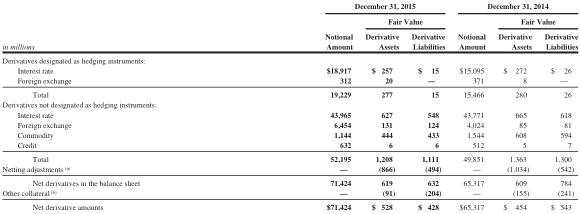table: (1, 1, 577, 210)
table column: (1, 1, 231, 210), (231, 1, 358, 210), (358, 1, 404, 210), (404, 1, 450, 210), (491, 1, 537, 210), (450, 1, 491, 210), (537, 1, 577, 210)
table column header: (1, 1, 577, 52)
table projected row header: (1, 52, 577, 64), (1, 99, 577, 109)
table row: (1, 28, 577, 52), (1, 13, 577, 28), (1, 86, 577, 99), (1, 1, 577, 13), (1, 52, 577, 64), (1, 74, 577, 86), (1, 139, 577, 151), (1, 151, 577, 163), (1, 163, 577, 175), (1, 175, 577, 187), (1, 187, 577, 199), (1, 199, 577, 210), (1, 64, 577, 74), (1, 99, 577, 109), (1, 109, 577, 119), (1, 119, 577, 129), (1, 129, 577, 139)
table spanning cell: (1, 1, 231, 52), (231, 13, 358, 52), (231, 1, 450, 13), (450, 13, 491, 52), (450, 1, 577, 13), (358, 13, 450, 28), (491, 13, 577, 28)
